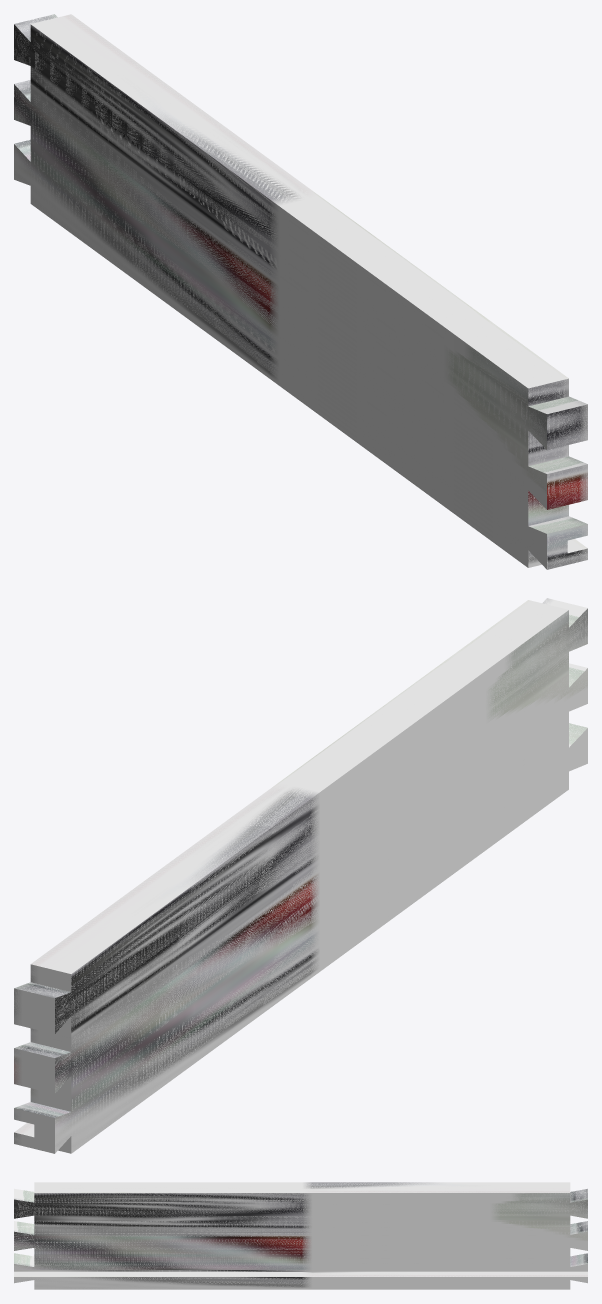
File: original-49.obj
3 renders of one model, top to bottom at view 1: azimuth 30°, elevation 25°; view 2: azimuth 150°, elevation 25°; view 3: azimuth 270°, elevation 25°, orthographic. The views are drawn at different scales.
Parts seen in each view (by area): view 1: Cotecomplet2/Cotecomplet12/mesh10/mesh10-geometry#mesh10-geometr; view 2: Cotecomplet2/Cotecomplet12/mesh10/mesh10-geometry#mesh10-geometr; view 3: Cotecomplet2/Cotecomplet12/mesh10/mesh10-geometry#mesh10-geometr.
Part boxes in pixels (box(x1,y1,x2,y2)): Cotecomplet2/Cotecomplet12/mesh10/mesh10-geometry#mesh10-geometr: box(14, 14, 587, 569); Cotecomplet2/Cotecomplet12/mesh10/mesh10-geometry#mesh10-geometr: box(14, 598, 587, 1153); Cotecomplet2/Cotecomplet12/mesh10/mesh10-geometry#mesh10-geometr: box(14, 1182, 587, 1289).
Bounding box in the file's own units: 0.011 × 0.046 × 0.2476.
